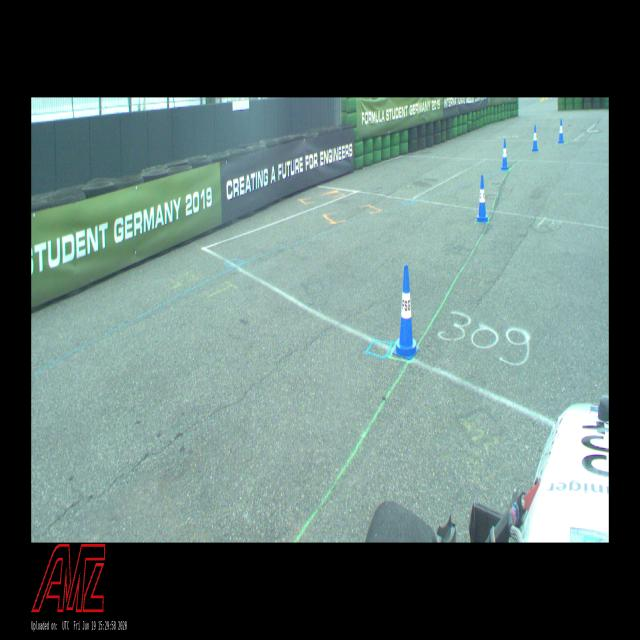blue_cone: (393, 264, 419, 359), (476, 175, 488, 223), (501, 138, 509, 170), (532, 125, 538, 152), (558, 118, 564, 144)
